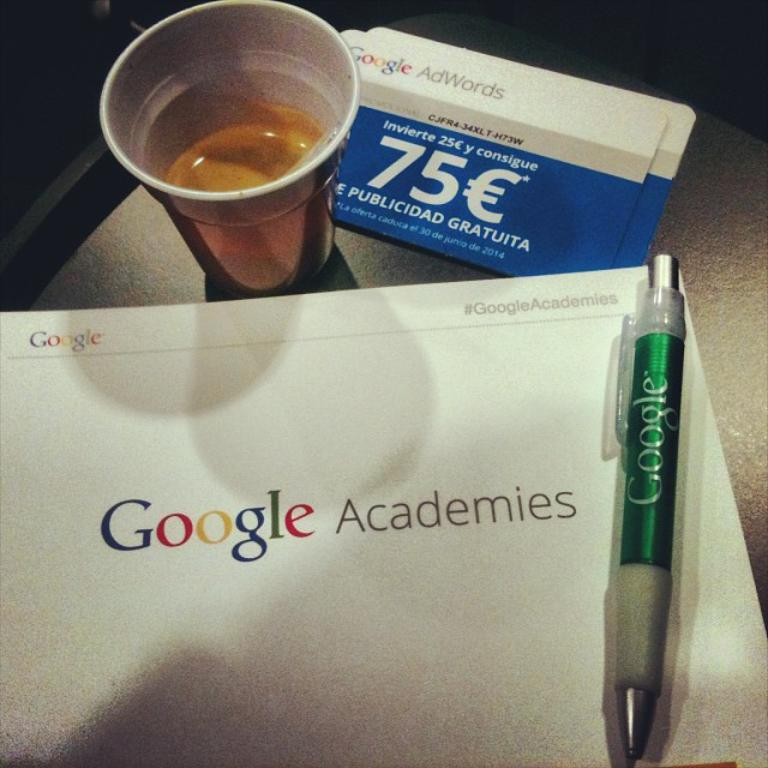pen: (593, 253, 685, 767)
